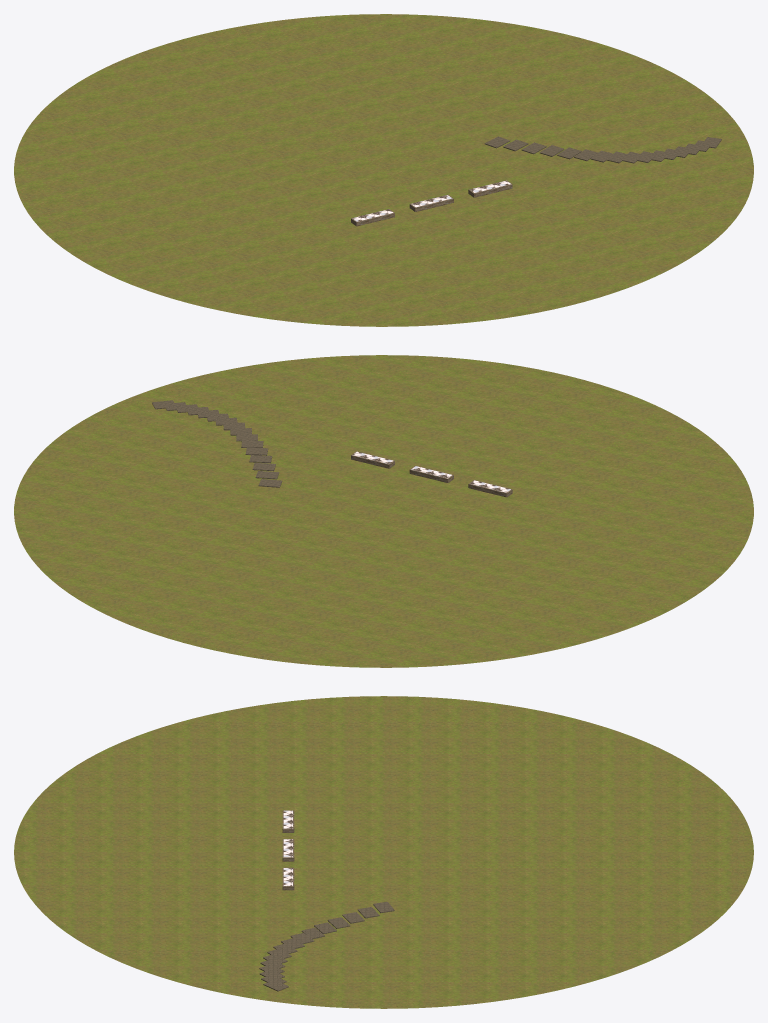
Rendered from ground.glb.
The picture shows the model from 3 angles, top to bottom: view 1: azimuth 30°, elevation 25°; view 2: azimuth 150°, elevation 25°; view 3: azimuth 270°, elevation 25°; orthographic projection.
Parts seen in each view (by area): view 1: ground; view 2: ground; view 3: ground.
Part boxes in pixels (box(x1,y1,x2,y2)): ground: box(14, 14, 753, 326); ground: box(14, 355, 753, 667); ground: box(14, 696, 753, 1008).
Size of the model in its own units: 48 by 0.3097 by 48.
Materials: 4 (3 with a texture image).
